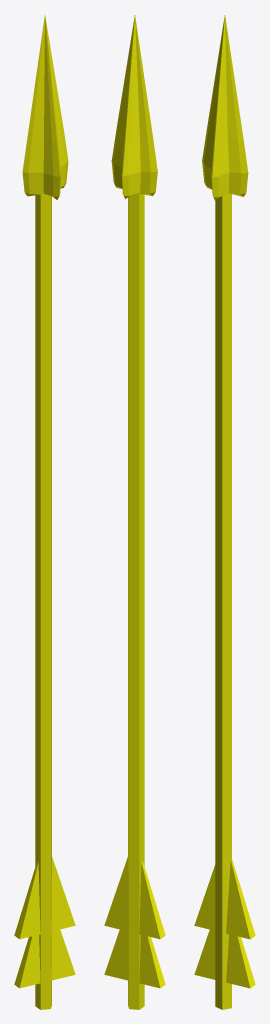
The model's file is _arrow_b_15.glb.
The picture shows the model from 3 angles, left to right: view 1: azimuth 30°, elevation 25°; view 2: azimuth 150°, elevation 25°; view 3: azimuth 330°, elevation 25°; orthographic projection.
Visible parts, largest first — view 1: arrow_b_15; view 2: arrow_b_15; view 3: arrow_b_15.
Part boxes in pixels (box(x1,y1,x2,y2)): arrow_b_15: box(14, 15, 75, 1009); arrow_b_15: box(104, 15, 165, 1009); arrow_b_15: box(194, 15, 255, 1009).
Bounding box in the file's own units: 1243 × 20987 × 1020.
